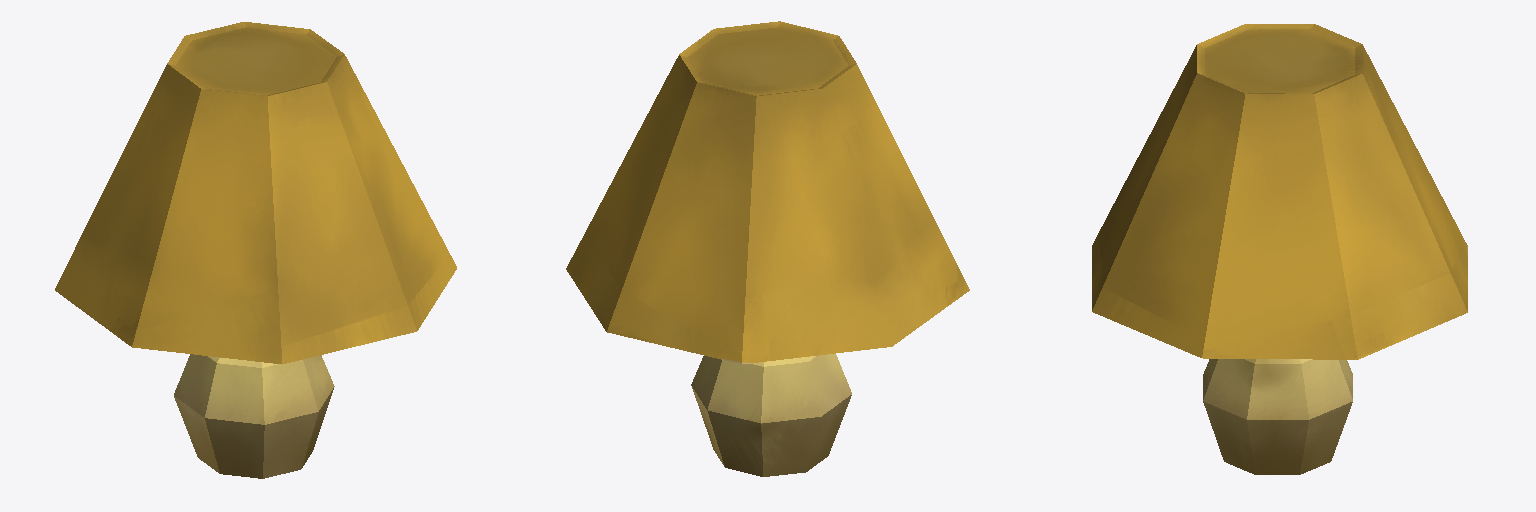
The picture shows the model from 3 angles: view 1: azimuth 30°, elevation 25°; view 2: azimuth 150°, elevation 25°; view 3: azimuth 270°, elevation 25°; orthographic projection.
Visible parts, largest first — view 1: Cuerpo_lámpara_Cone.001_None.001; view 2: Cuerpo_lámpara_Cone.001_None.001; view 3: Cuerpo_lámpara_Cone.001_None.001.
Part boxes in pixels (x1,y1,x2,y2): Cuerpo_lámpara_Cone.001_None.001: (55, 22, 456, 478); Cuerpo_lámpara_Cone.001_None.001: (566, 21, 969, 476); Cuerpo_lámpara_Cone.001_None.001: (1092, 24, 1467, 474).
Size of the model in its own units: 0.4224 by 0.4885 by 0.4221.
Materials: 1 (1 with a texture image).